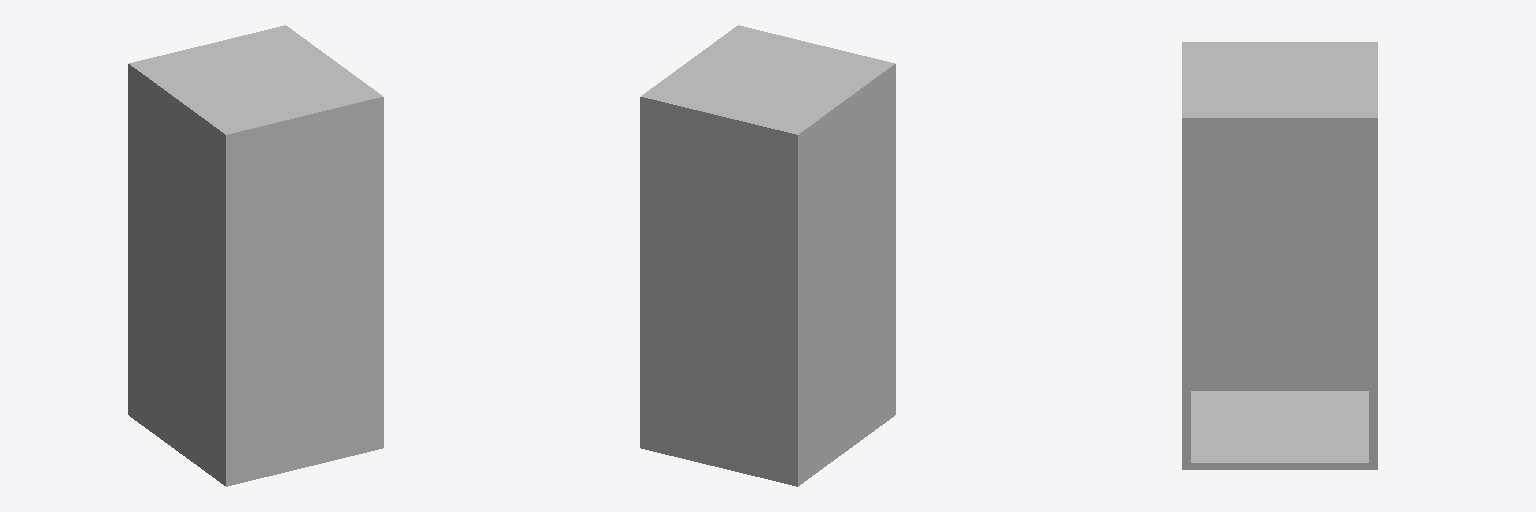
Rendered from fridge_body.obj.
The picture shows the model from 3 angles: view 1: azimuth 30°, elevation 25°; view 2: azimuth 150°, elevation 25°; view 3: azimuth 270°, elevation 25°; orthographic projection.
Visible parts, largest first — view 1: Fridge_Cube; view 2: Fridge_Cube; view 3: Fridge_Cube.
Part boxes in pixels (x1,y1,x2,y2): Fridge_Cube: (128, 25, 383, 486); Fridge_Cube: (640, 25, 895, 486); Fridge_Cube: (1182, 42, 1377, 469).
Size of the model in its own units: 1.86 by 3.98 by 2.